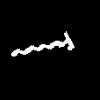half_double_crochet: (11, 33, 73, 55)
